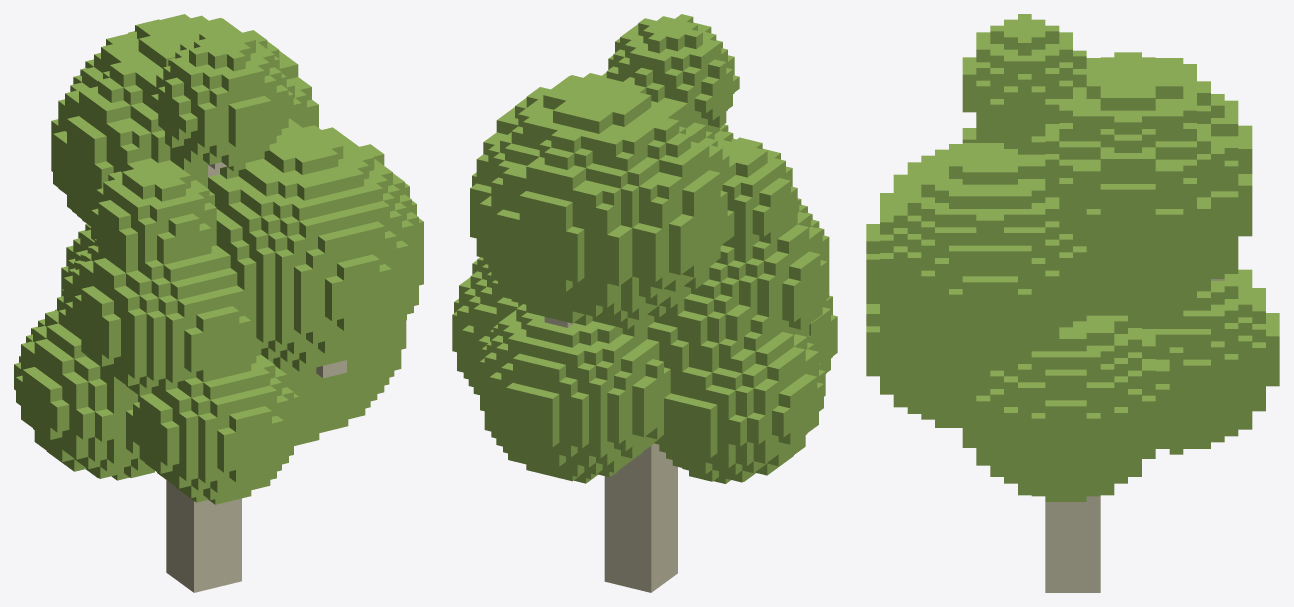
The model's file is cypress.fbx.
3 renders of one model, left to right at view 1: azimuth 30°, elevation 25°; view 2: azimuth 150°, elevation 25°; view 3: azimuth 270°, elevation 25°, orthographic. The views are drawn at different scales.
Parts seen in each view (by area): view 1: baishu1; view 2: baishu1; view 3: baishu1.
Part boxes in pixels (bbox=[...]): baishu1: bbox=[14, 14, 423, 592]; baishu1: bbox=[452, 14, 837, 592]; baishu1: bbox=[866, 14, 1279, 592].
Bounding box in the file's own units: 29 × 44 × 30.
Materials: 1 (1 with a texture image).
